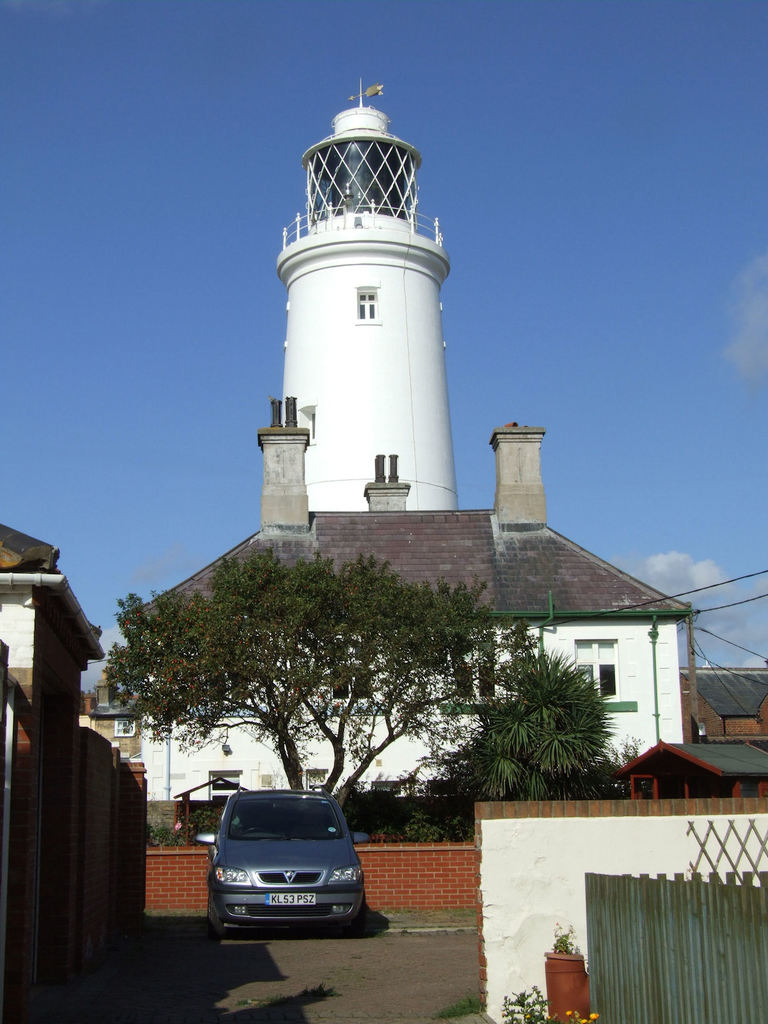Car: (193, 784, 370, 936)
